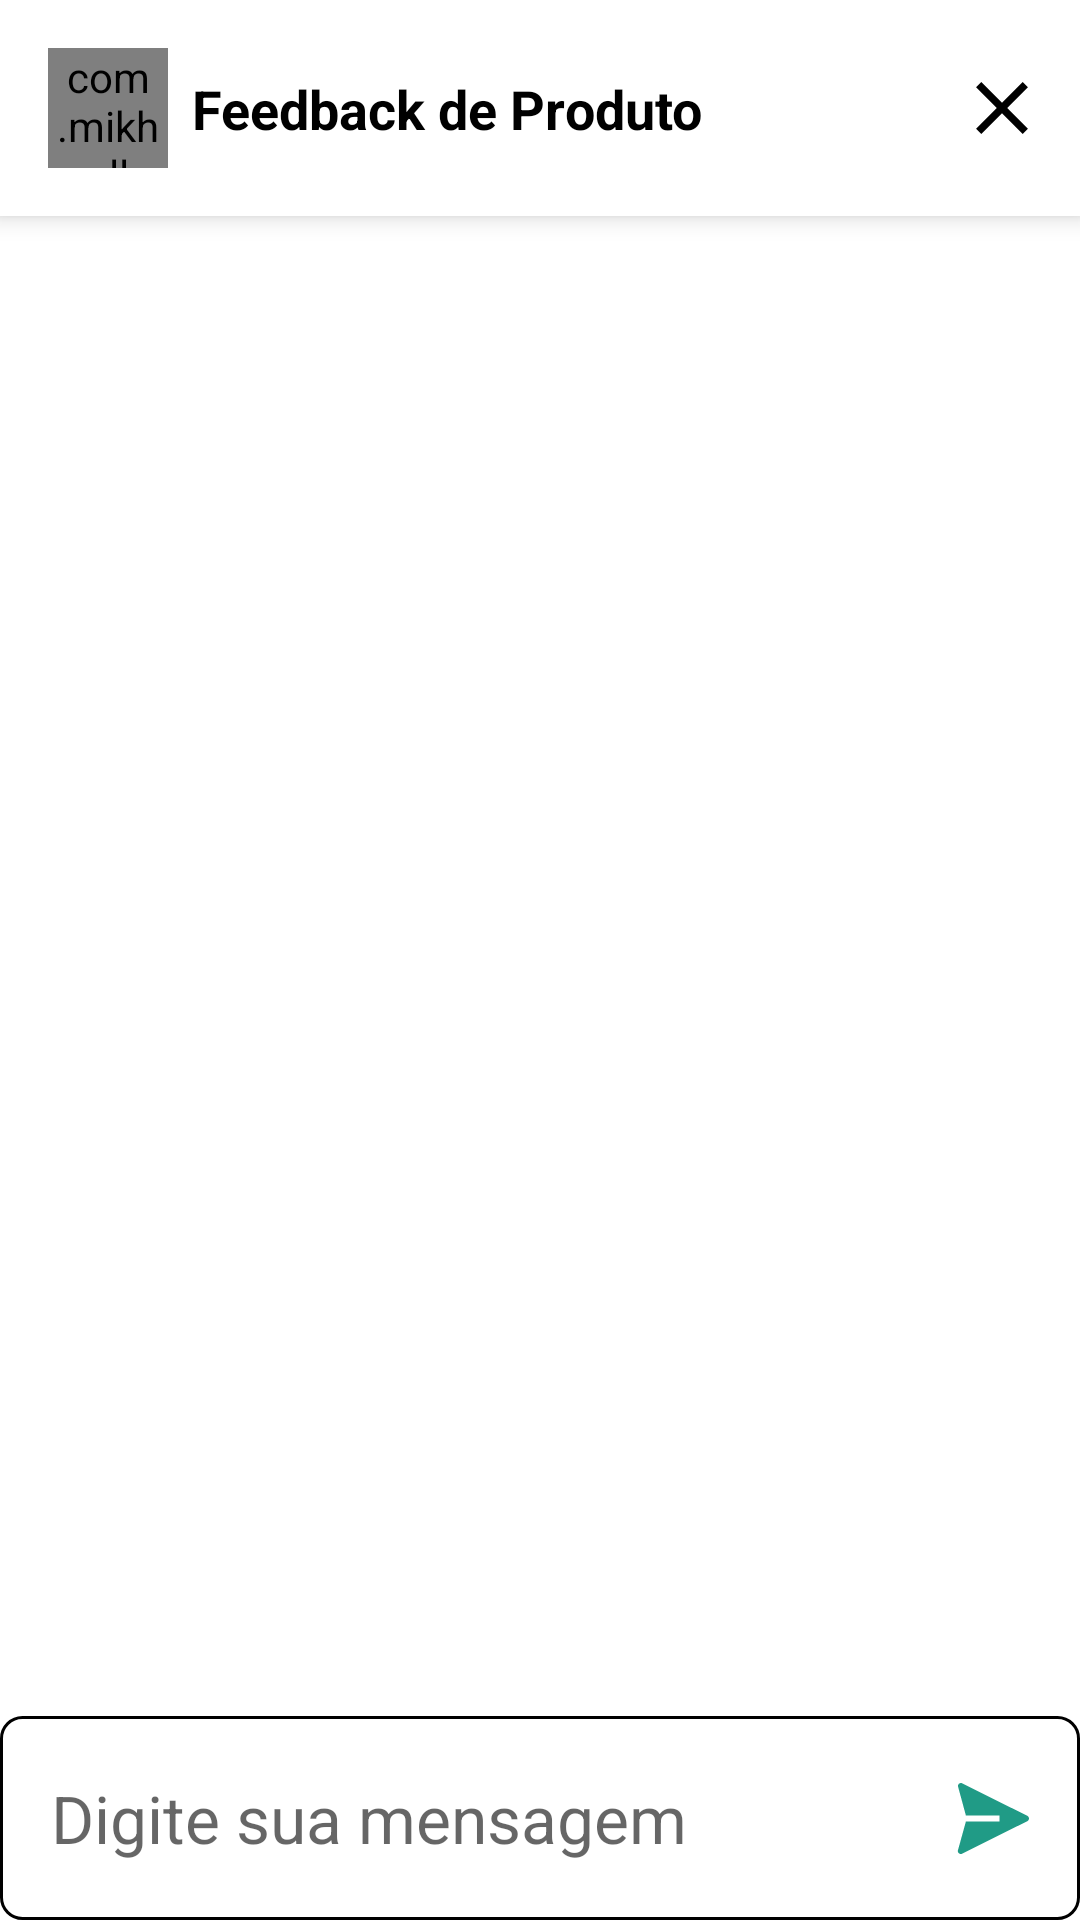

Screen size 1080 x 1920. Icon name, then its center in pixels as (x,y):
close: (1002,108)
send message: (993,1818)
